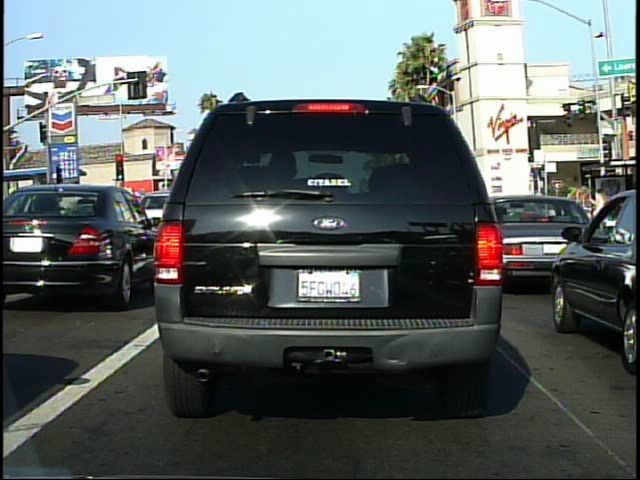person: (588, 184, 610, 243)
